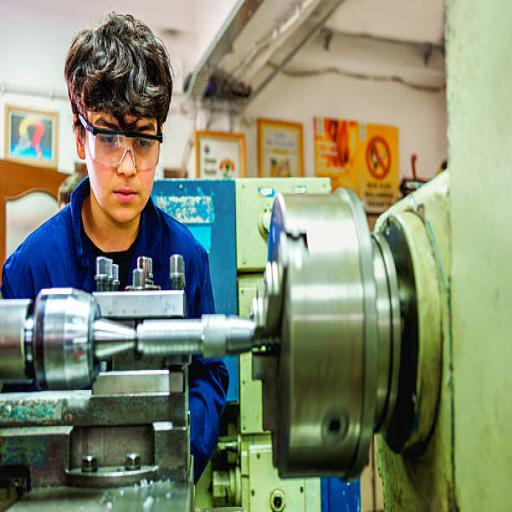No Helmet: (58, 2, 183, 238)
safety glasses: (64, 99, 168, 175)
